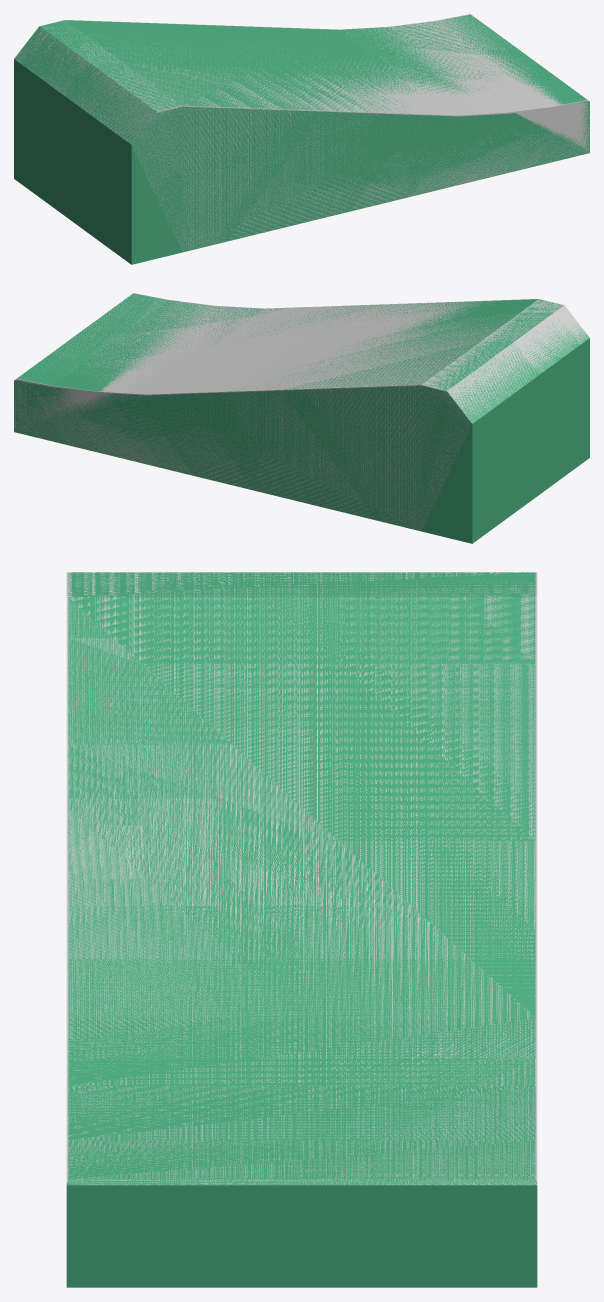
File: gm_ramp_02.dae
3 renders of one model, top to bottom at view 1: azimuth 30°, elevation 25°; view 2: azimuth 150°, elevation 25°; view 3: azimuth 270°, elevation 25°, orthographic. The views are drawn at different scales.
Parts seen in each view (by area): view 1: Colmesh-1, gm_ramp_a100; view 2: Colmesh-1, gm_ramp_a100; view 3: Colmesh-1, gm_ramp_a100.
Boxes of the visible parts, bbox=[...] form: Colmesh-1: bbox=[14, 14, 589, 264]; gm_ramp_a100: bbox=[14, 14, 589, 251]; Colmesh-1: bbox=[14, 293, 589, 543]; gm_ramp_a100: bbox=[14, 293, 589, 530]; Colmesh-1: bbox=[66, 572, 537, 1287]; gm_ramp_a100: bbox=[66, 572, 537, 1185].
Bounding box in the file's own units: 9 × 4 × 2.75.
